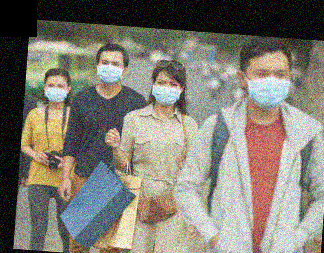with_mask: (243, 66, 289, 112), (152, 79, 181, 107), (96, 58, 123, 86), (43, 81, 68, 104)
